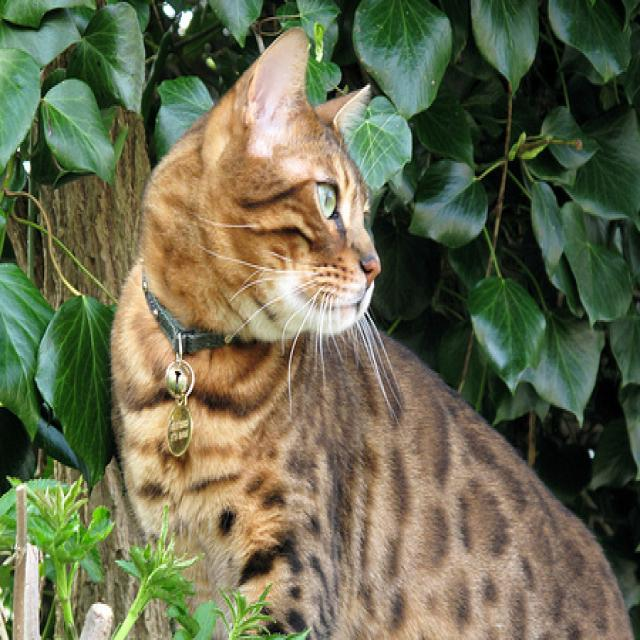Bengal: (109, 21, 640, 640)
